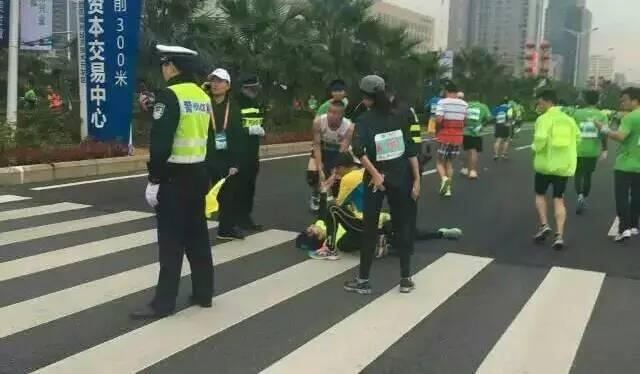10+: (19, 28, 640, 322)
down: (280, 189, 472, 263)
